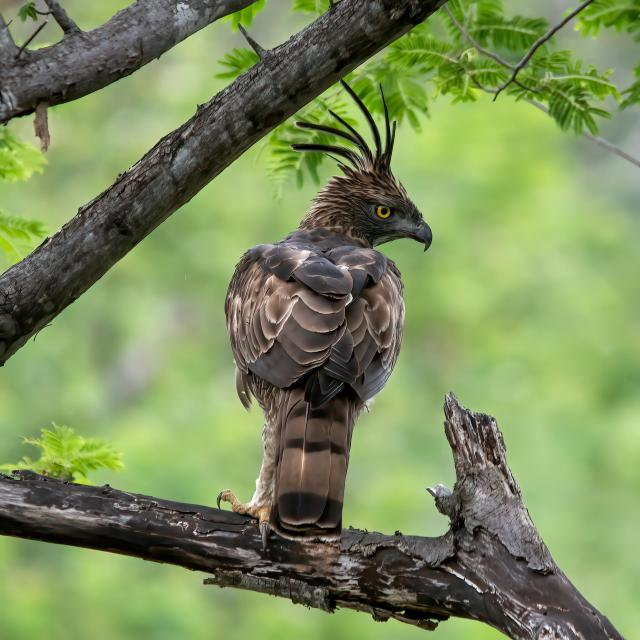Elang Jawa: (198, 59, 446, 576)
